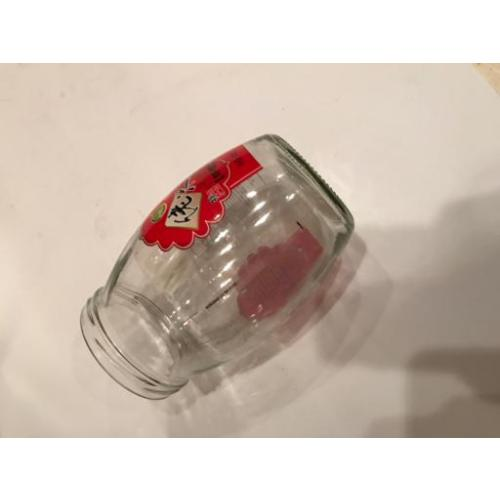glass: (79, 134, 354, 402)
